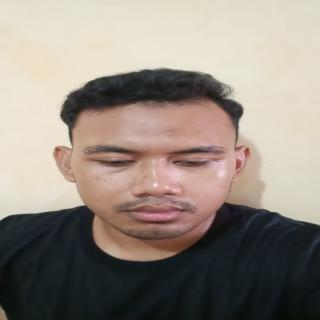Sedih: (66, 99, 239, 244)
